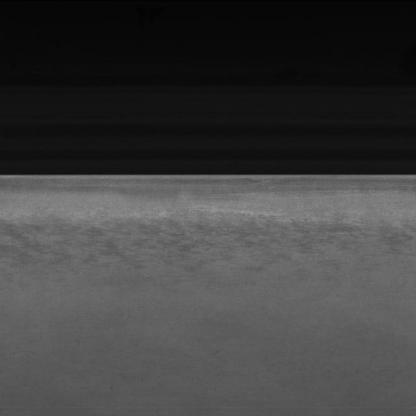silk_spot: (26, 213, 361, 276)
